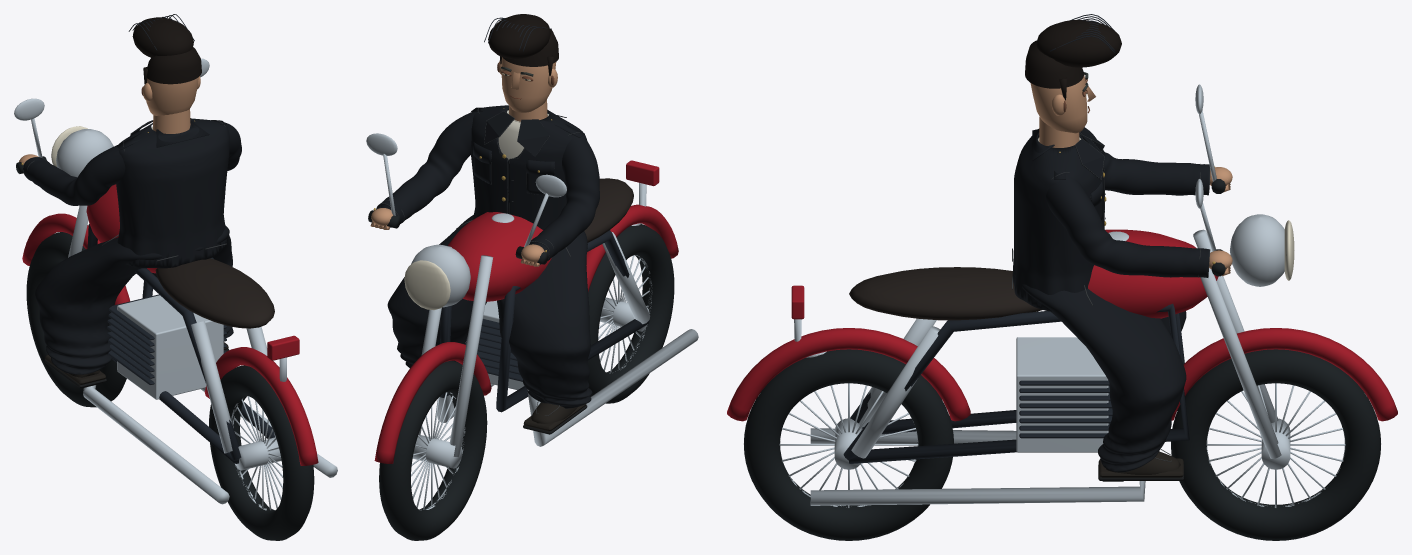
3 views of the same model, side by side, from view 1: azimuth 30°, elevation 25°; view 2: azimuth 150°, elevation 25°; view 3: azimuth 270°, elevation 25° (orthographic). The views are drawn at different scales.
Visible parts, largest first — view 1: YN_V2_Tailored coat shell, YN_V2_Sewn high waist bontan, YN_Tire_ClothingV2, YN_Engine_ClothingV2, YN_SteppedSeat_ClothingV2, YN_Tire.001_ClothingV2, YN_V2_Set in shaped sleeve, YN_Fender_ClothingV2, YN_Exhaust_ClothingV2, YN_Frame_ClothingV2, YN_Pompadour_ClothingV2, YN_RearShock_ClothingV2 (+14 smaller); view 2: YN_V2_Sewn high waist bontan, YN_Tire.001_ClothingV2, YN_Tire_ClothingV2, YN_V2_Tailored coat shell, YN_FuelTank_ClothingV2, YN_V2_Set in shaped sleeve, YN_V2_Set in shaped sleeve.001, YN_Fender.001_ClothingV2, YN_Frame_ClothingV2, YN_FrontFork_ClothingV2, YN_Exhaust_ClothingV2, YN_Pompadour_ClothingV2 (+21 smaller); view 3: YN_Tire.001_ClothingV2, YN_Tire_ClothingV2, YN_V2_Sewn high waist bontan, YN_V2_Tailored coat shell, YN_SteppedSeat_ClothingV2, YN_Engine_ClothingV2, YN_V2_Set in shaped sleeve.001, YN_Fender_ClothingV2, YN_Exhaust.001_ClothingV2, YN_Fender.001_ClothingV2, YN_Frame.001_ClothingV2, YN_FuelTank_ClothingV2 (+13 smaller).
Part boxes in pixels (<box>): YN_V2_Tailored coat shell: <box>116,118,229,268</box>; YN_V2_Sewn high waist bontan: <box>35,225,233,374</box>; YN_Tire_ClothingV2: <box>209,365,314,540</box>; YN_Engine_ClothingV2: <box>117,295,223,399</box>; YN_SteppedSeat_ClothingV2: <box>155,258,274,328</box>; YN_Tire.001_ClothingV2: <box>26,232,126,407</box>; YN_V2_Set in shaped sleeve: <box>23,146,125,205</box>; YN_Fender_ClothingV2: <box>204,347,318,465</box>; YN_Exhaust_ClothingV2: <box>83,385,229,504</box>; YN_Frame_ClothingV2: <box>87,224,241,463</box>; YN_Pompadour_ClothingV2: <box>132,17,193,57</box>; YN_RearShock_ClothingV2: <box>191,321,232,453</box>; YN_V2_Sewn high waist bontan: <box>387,215,592,408</box>; YN_Tire.001_ClothingV2: <box>379,360,487,540</box>; YN_Tire_ClothingV2: <box>587,224,674,403</box>; YN_V2_Tailored coat shell: <box>471,105,586,236</box>; YN_FuelTank_ClothingV2: <box>448,212,551,301</box>; YN_V2_Set in shaped sleeve: <box>529,135,599,264</box>; YN_V2_Set in shaped sleeve.001: <box>376,109,477,227</box>; YN_Fender.001_ClothingV2: <box>374,342,491,463</box>; YN_Frame_ClothingV2: <box>496,230,649,412</box>; YN_FrontFork_ClothingV2: <box>449,255,493,457</box>; YN_Exhaust_ClothingV2: <box>527,329,698,446</box>; YN_Pompadour_ClothingV2: <box>488,14,550,59</box>; YN_Tire.001_ClothingV2: <box>1171,349,1380,540</box>; YN_Tire_ClothingV2: <box>744,349,953,540</box>; YN_V2_Sewn high waist bontan: <box>1014,270,1186,472</box>; YN_V2_Tailored coat shell: <box>1012,128,1104,311</box>; YN_SteppedSeat_ClothingV2: <box>849,267,1042,320</box>; YN_Engine_ClothingV2: <box>1016,337,1108,452</box>; YN_V2_Set in shaped sleeve.001: <box>1046,173,1209,277</box>; YN_Fender_ClothingV2: <box>727,328,970,421</box>; YN_Exhaust.001_ClothingV2: <box>810,481,1145,505</box>; YN_Fender.001_ClothingV2: <box>1171,328,1397,421</box>; YN_Frame.001_ClothingV2: <box>843,303,1189,463</box>; YN_FuelTank_ClothingV2: <box>1088,229,1218,318</box>.
Size of the model in its own units: 0.83 by 1.78 by 2.1.
